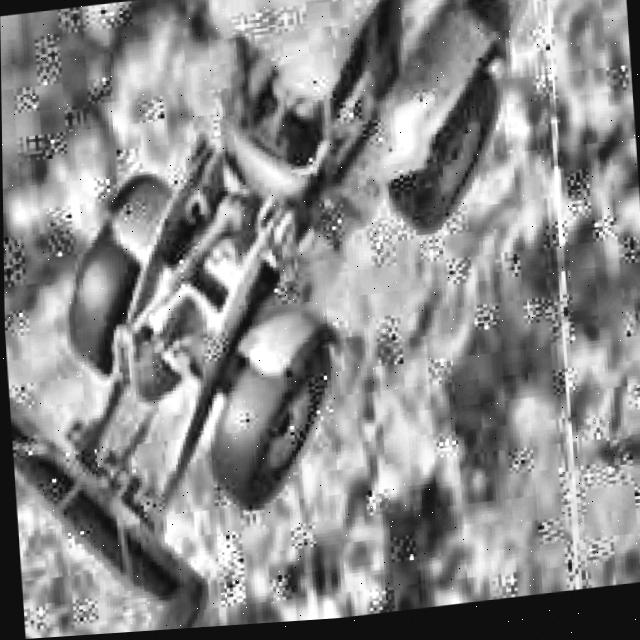buldozerpayloadergrader: (0, 0, 577, 640)
